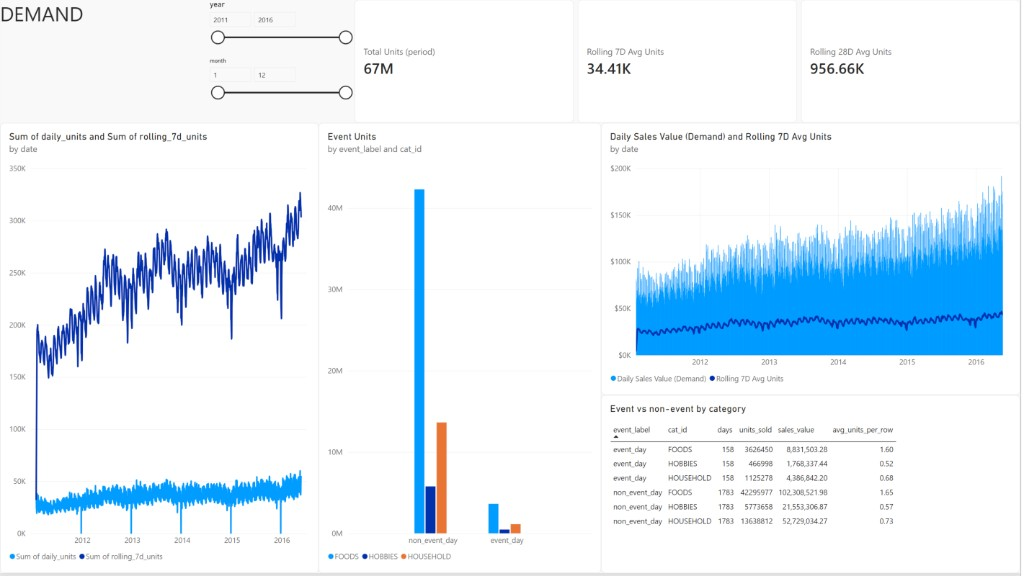

What the dashboard file says about the page in this screenshot:
{"tool":"powerbi","page":{"name":"Page 4","canvas":[1920,1080],"ordinal":3},"visuals":[{"type":"slicer","fields":{"Values":["`workspace` `walmart_m5_gold` `dim_date`.year"]},"box":[386.8,0,280,280],"z":0},{"type":"slicer","fields":{"Values":["`workspace` `walmart_m5_gold` `dim_date`.month"]},"box":[386.8,109.1,279.9,122.7],"z":1000},{"type":"lineChart","fields":{"Category":["`workspace` `walmart_m5_gold` `agg_demand_trends`.date.Variation.Date Hierarchy.Year"],"Y":["Sum(`workspace` `walmart_m5_gold` `agg_demand_trends`.daily_units)","Sum(`workspace` `walmart_m5_gold` `agg_demand_trends`.rolling_28d_units)","Sum(`workspace` `walmart_m5_gold` `agg_demand_trends`.rolling_7d_units)"]},"box":[0,232.1,599.5,848.1],"z":2000},{"type":"cardVisual","fields":{"Data":["Table.Daily Units","Table.Rolling 7D Avg Units","Table.Rolling 28D Units"]},"box":[667.2,0,1252.8,232.1],"z":3000},{"type":"lineClusteredColumnComboChart","fields":{"Category":["`workspace` `walmart_m5_gold` `agg_demand_trends`.date.Variation.Date Hierarchy.Year"],"Y":["Table.Daily Sales Value (Demand)"],"Y2":["Table.Active SKUs (Demand)"]},"box":[1131.3,232.1,788.7,509.7],"z":4000},{"type":"clusteredColumnChart","fields":{"Category":["`workspace` `walmart_m5_gold` `agg_event_sales`.event_label"],"Series":["`workspace` `walmart_m5_gold` `agg_event_sales`.cat_id"],"Y":["Table.Event Units"]},"box":[599.5,232.1,531.8,848.1],"z":5000},{"type":"tableEx","fields":{"Values":["`workspace` `walmart_m5_gold` `agg_event_sales`.event_label","`workspace` `walmart_m5_gold` `agg_event_sales`.cat_id","Sum(`workspace` `walmart_m5_gold` `agg_event_sales`.days)","Sum(`workspace` `walmart_m5_gold` `agg_event_sales`.units_sold)","Sum(`workspace` `walmart_m5_gold` `agg_event_sales`.sales_value)","Sum(`workspace` `walmart_m5_gold` `agg_event_sales`.avg_units_per_row)"]},"box":[1131.3,744.5,788.7,335.7],"z":6000}]}

Visuals, with their boxes in screenshot pixels (x1, y1, x2, y2), scaled from the page's 1920x1080 canvas onto the 1024x576 screenshot:
slicer - `workspace` `walmart_m5_gold` `dim_date`.year: 206, 0, 356, 149
slicer - `workspace` `walmart_m5_gold` `dim_date`.month: 206, 58, 356, 124
lineChart - `workspace` `walmart_m5_gold` `agg_demand_trends`.date.Variation.Date Hierarchy.Year x Sum(`workspace` `walmart_m5_gold` `agg_demand_trends`.daily_units): 0, 124, 320, 575
cardVisual - Table.Daily Units x Table.Rolling 7D Avg Units: 356, 0, 1023, 124
lineClusteredColumnComboChart - `workspace` `walmart_m5_gold` `agg_demand_trends`.date.Variation.Date Hierarchy.Year x Table.Daily Sales Value (Demand): 603, 124, 1023, 396
clusteredColumnChart - `workspace` `walmart_m5_gold` `agg_event_sales`.event_label x `workspace` `walmart_m5_gold` `agg_event_sales`.cat_id: 320, 124, 603, 575
tableEx - `workspace` `walmart_m5_gold` `agg_event_sales`.event_label x `workspace` `walmart_m5_gold` `agg_event_sales`.cat_id: 603, 397, 1023, 575
